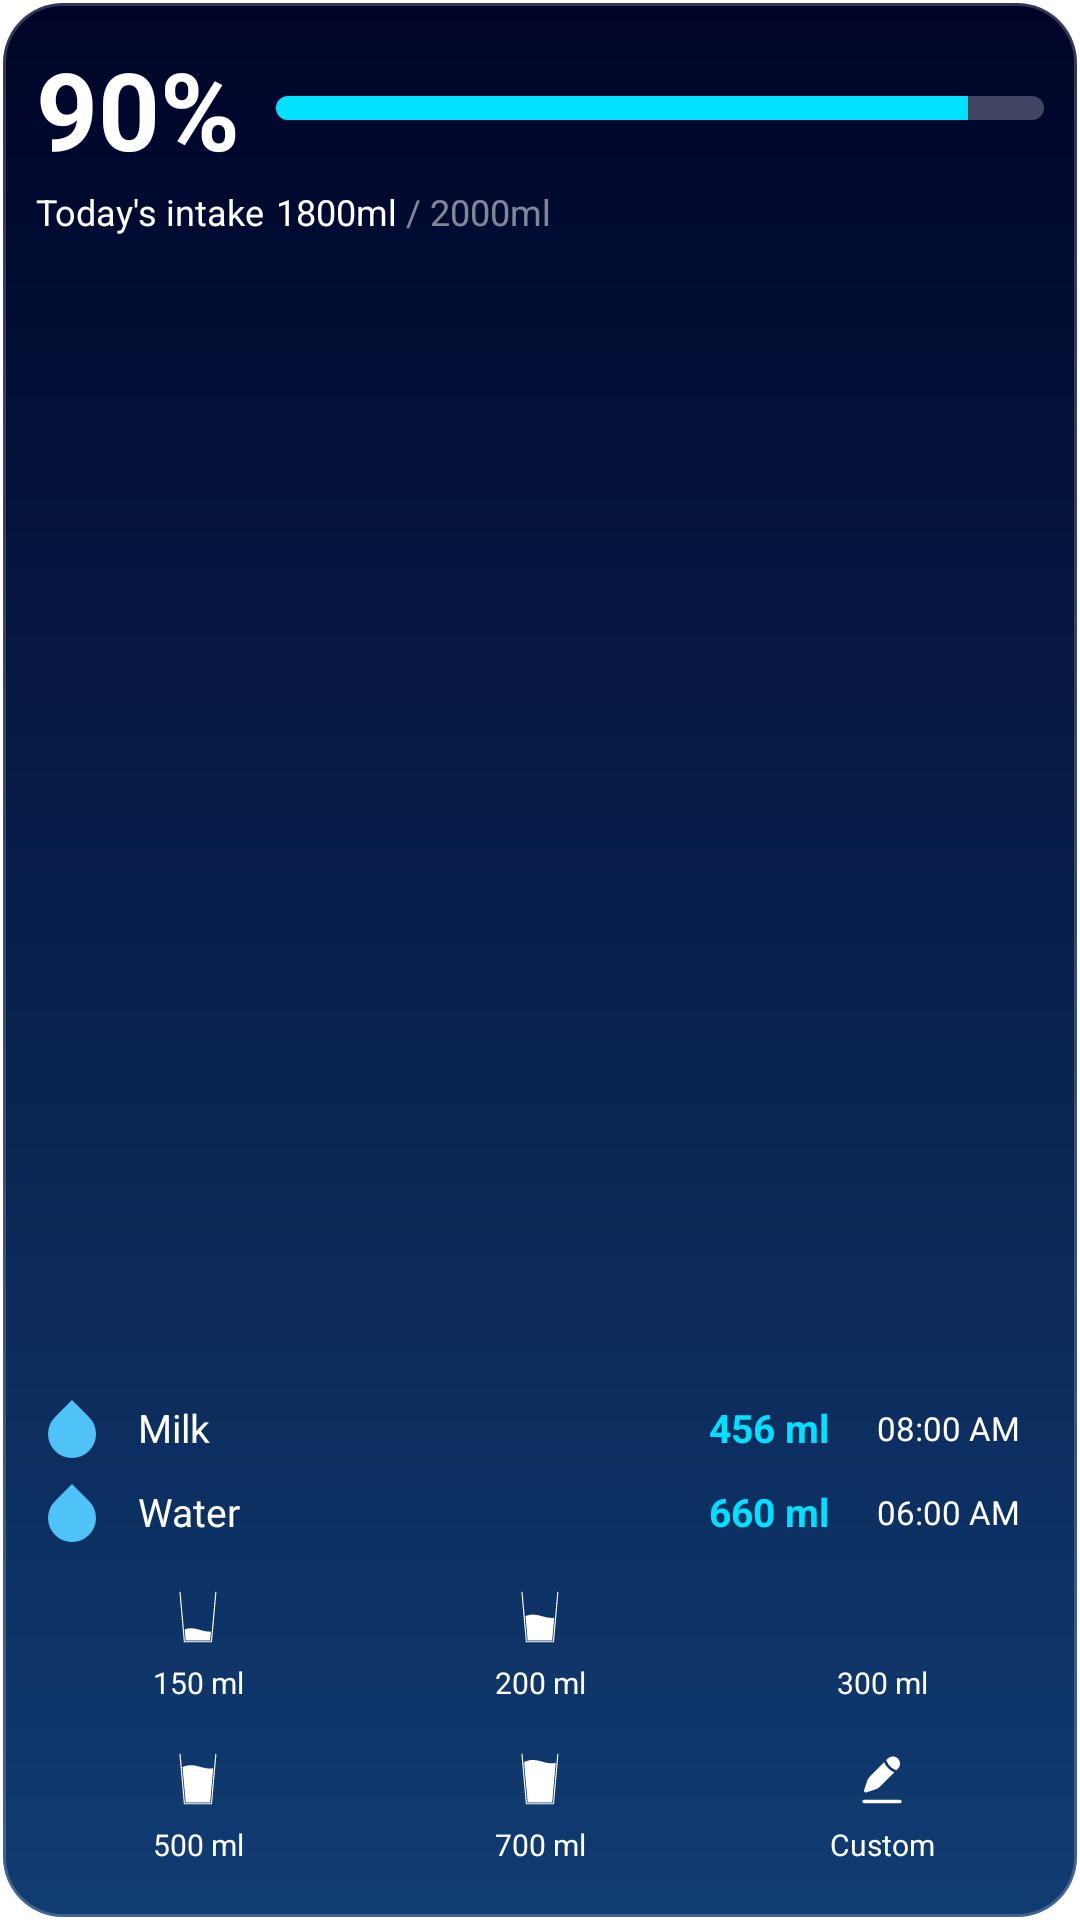

Screen size 1080x1920. Icon name, then its box in pixels as (x1, y1, x2, y2):
Drink type: (48, 1400, 96, 1458), (48, 1484, 96, 1542)
